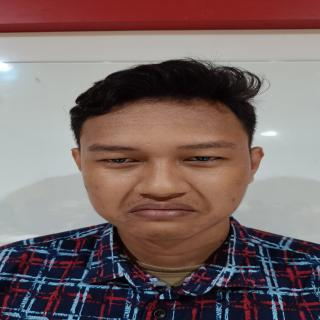Sedih: (74, 91, 254, 247)
